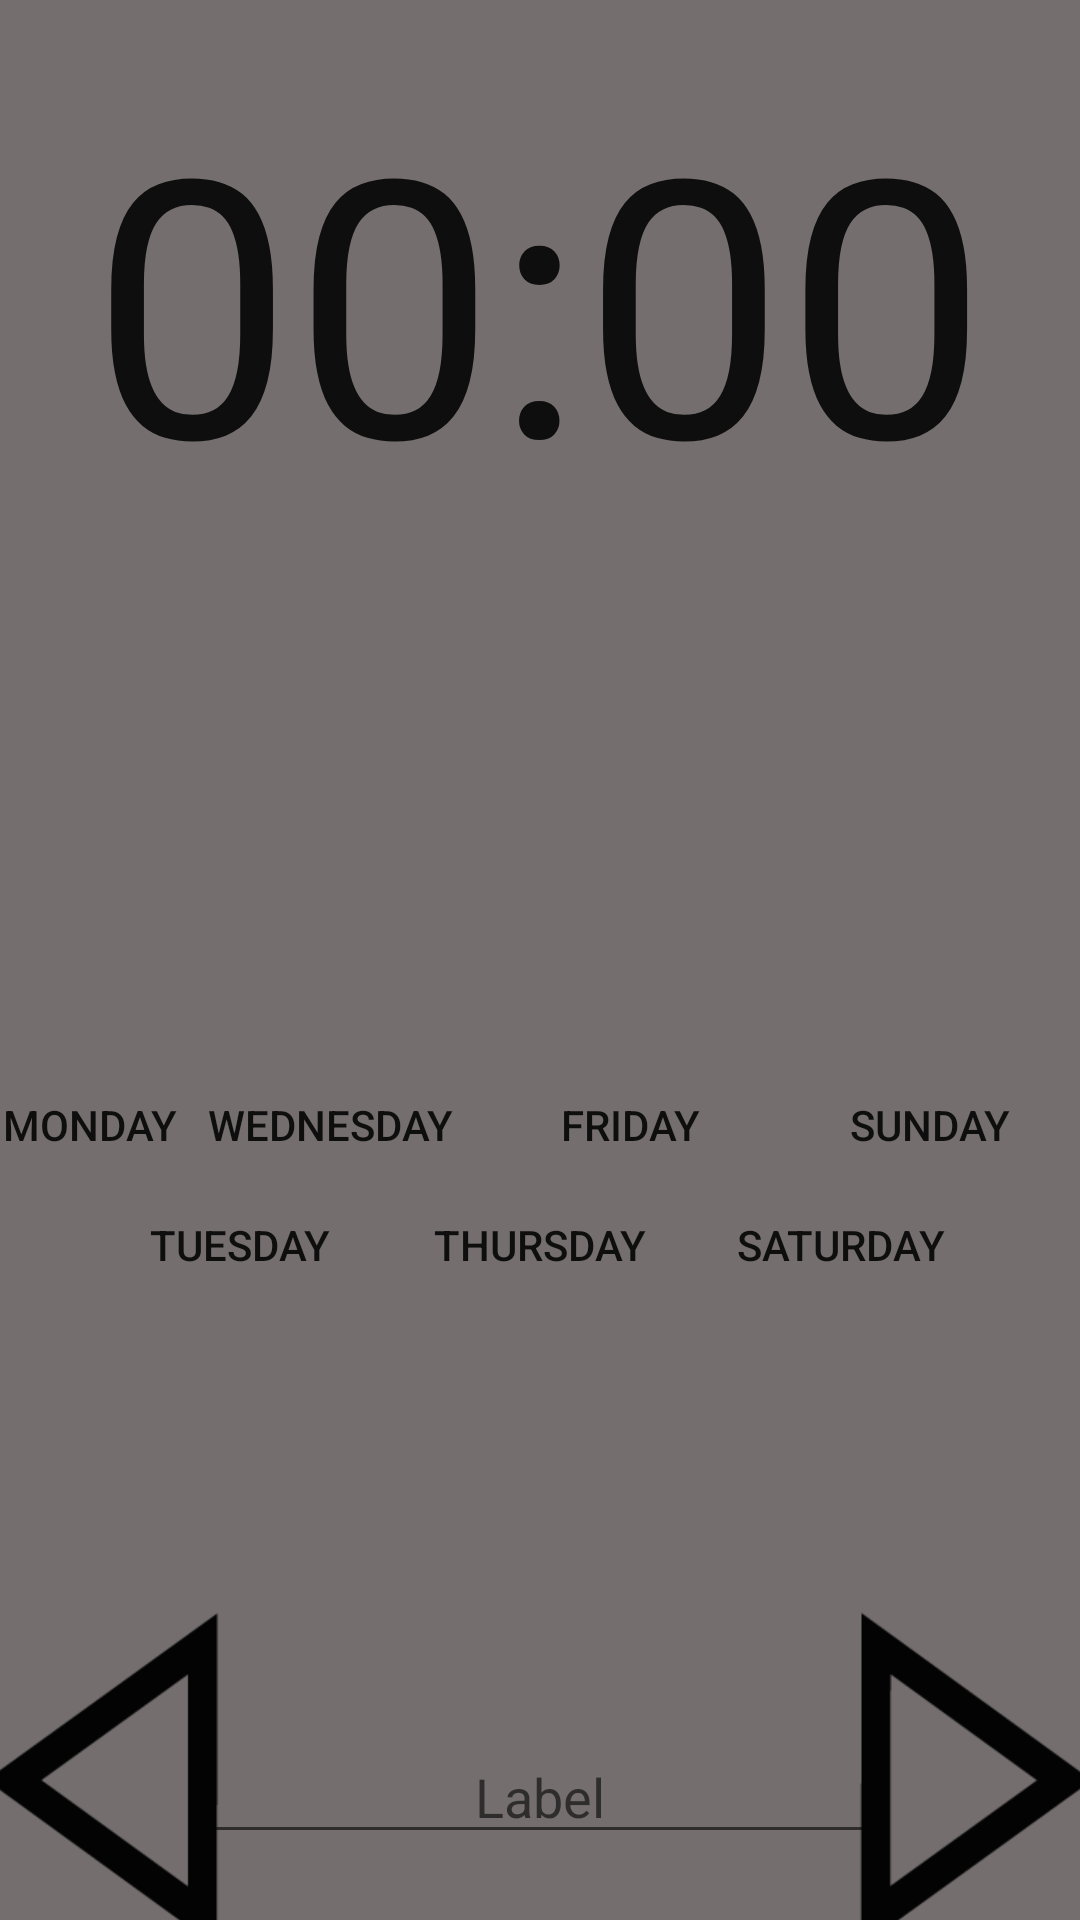

Point at icon controls on the screen. Image size 1080x1920, points as (x=x, y=y).
arrowleft: (x=112, y=1767)
arrowright: (x=967, y=1766)
